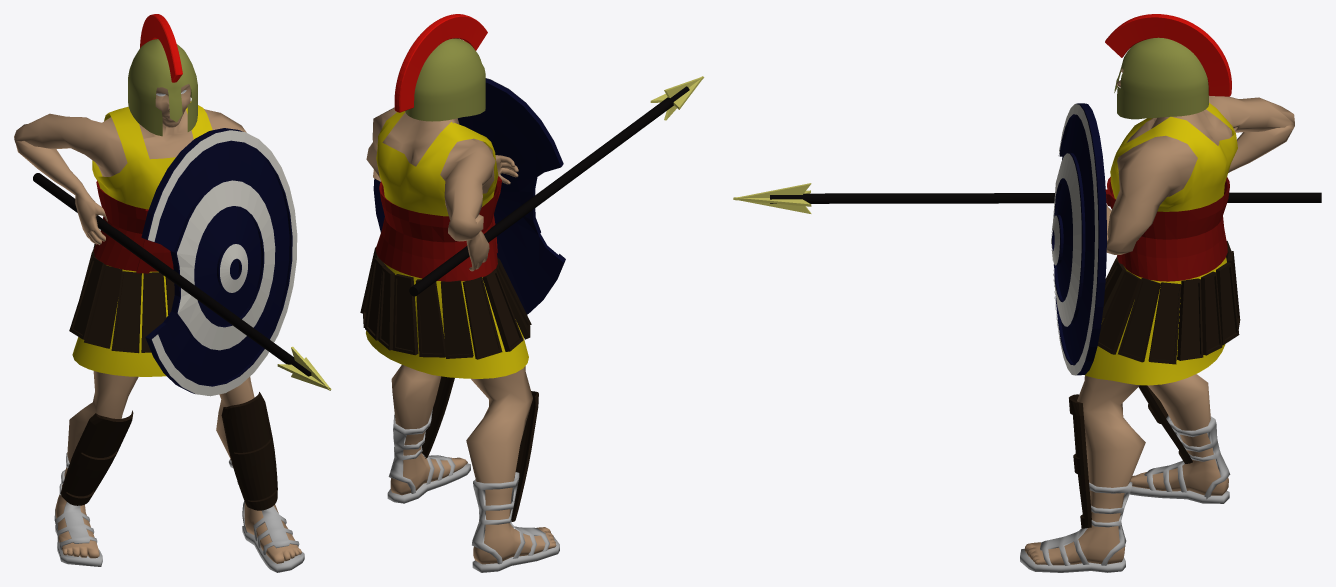
Rendered from phalanx6.obj.
3 renders of one model, left to right at view 1: azimuth 30°, elevation 25°; view 2: azimuth 150°, elevation 25°; view 3: azimuth 270°, elevation 25°, orthographic.
Visible parts, largest first — view 1: shield_Circle_shield, Human.000_body.000_skin_player, shield_rings_Circle.005_shield__rings, armor_upper_leg_Cube.016_armor_upper_leg, Circle_Circle.003_clothes, fender_left_Cylinder_armor_upper_leg, helmet_Circle.001_helmet, fender_right_Cylinder.001_armor_upper_leg, Human.005_body.013_roupa_player, spear_handle_Cylinder.002_sspear_handle, armor_torso_Circle.004_armor_torso, helmet_top_Circle.002_helmet_top (+1 smaller); view 2: Human.000_body.000_skin_player, armor_upper_leg_Cube.016_armor_upper_leg, shield_Circle_shield, Circle_Circle.003_clothes, armor_torso_Circle.004_armor_torso, Human.005_body.013_roupa_player, helmet_Circle.001_helmet, spear_handle_Cylinder.002_sspear_handle, helmet_top_Circle.002_helmet_top, fender_right_Cylinder.001_armor_upper_leg, fender_left_Cylinder_armor_upper_leg, spear_head_Plane_spearhead; view 3: Human.000_body.000_skin_player, armor_upper_leg_Cube.016_armor_upper_leg, shield_Circle_shield, Circle_Circle.003_clothes, armor_torso_Circle.004_armor_torso, helmet_Circle.001_helmet, Human.005_body.013_roupa_player, shield_rings_Circle.005_shield__rings, spear_handle_Cylinder.002_sspear_handle, helmet_top_Circle.002_helmet_top, fender_left_Cylinder_armor_upper_leg, spear_head_Plane_spearhead (+1 smaller).
Part boxes in pixels (bbox=[...]): shield_Circle_shield: bbox=[141, 128, 292, 393]; Human.000_body.000_skin_player: bbox=[14, 84, 301, 563]; shield_rings_Circle.005_shield__rings: bbox=[148, 130, 297, 396]; armor_upper_leg_Cube.016_armor_upper_leg: bbox=[69, 244, 174, 353]; Circle_Circle.003_clothes: bbox=[72, 101, 212, 376]; fender_left_Cylinder_armor_upper_leg: bbox=[221, 392, 277, 510]; helmet_Circle.001_helmet: bbox=[128, 39, 197, 136]; fender_right_Cylinder.001_armor_upper_leg: bbox=[60, 410, 133, 505]; Human.005_body.013_roupa_player: bbox=[54, 453, 304, 572]; spear_handle_Cylinder.002_sspear_handle: bbox=[33, 173, 311, 376]; armor_torso_Circle.004_armor_torso: bbox=[94, 181, 173, 273]; helmet_top_Circle.002_helmet_top: bbox=[140, 14, 182, 82]; Human.000_body.000_skin_player: bbox=[366, 107, 556, 564]; armor_upper_leg_Cube.016_armor_upper_leg: bbox=[360, 247, 531, 359]; shield_Circle_shield: bbox=[373, 78, 565, 314]; Circle_Circle.003_clothes: bbox=[366, 111, 528, 378]; armor_torso_Circle.004_armor_torso: bbox=[375, 176, 501, 281]; Human.005_body.013_roupa_player: bbox=[387, 409, 559, 572]; helmet_Circle.001_helmet: bbox=[405, 38, 485, 121]; spear_handle_Cylinder.002_sspear_handle: bbox=[409, 86, 689, 296]; helmet_top_Circle.002_helmet_top: bbox=[394, 14, 487, 112]; fender_right_Cylinder.001_armor_upper_leg: bbox=[511, 391, 538, 521]; fender_left_Cylinder_armor_upper_leg: bbox=[421, 376, 454, 458]; spear_head_Plane_spearhead: bbox=[650, 76, 704, 120]; Human.000_body.000_skin_player: bbox=[1024, 68, 1294, 565]; armor_upper_leg_Cube.016_armor_upper_leg: bbox=[1097, 241, 1240, 364]; shield_Circle_shield: bbox=[1052, 103, 1106, 375]; Circle_Circle.003_clothes: bbox=[1085, 103, 1237, 385]; armor_torso_Circle.004_armor_torso: bbox=[1105, 177, 1229, 281]; helmet_Circle.001_helmet: bbox=[1114, 37, 1208, 119]; Human.005_body.013_roupa_player: bbox=[1020, 415, 1230, 572]; shield_rings_Circle.005_shield__rings: bbox=[1051, 104, 1098, 375]; spear_handle_Cylinder.002_sspear_handle: bbox=[770, 192, 1321, 203]; helmet_top_Circle.002_helmet_top: bbox=[1105, 14, 1231, 96]; fender_left_Cylinder_armor_upper_leg: bbox=[1069, 394, 1091, 528]; spear_head_Plane_spearhead: bbox=[733, 183, 811, 213].
Bounding box in the file's own units: 0.711 × 1.67 × 1.72.
